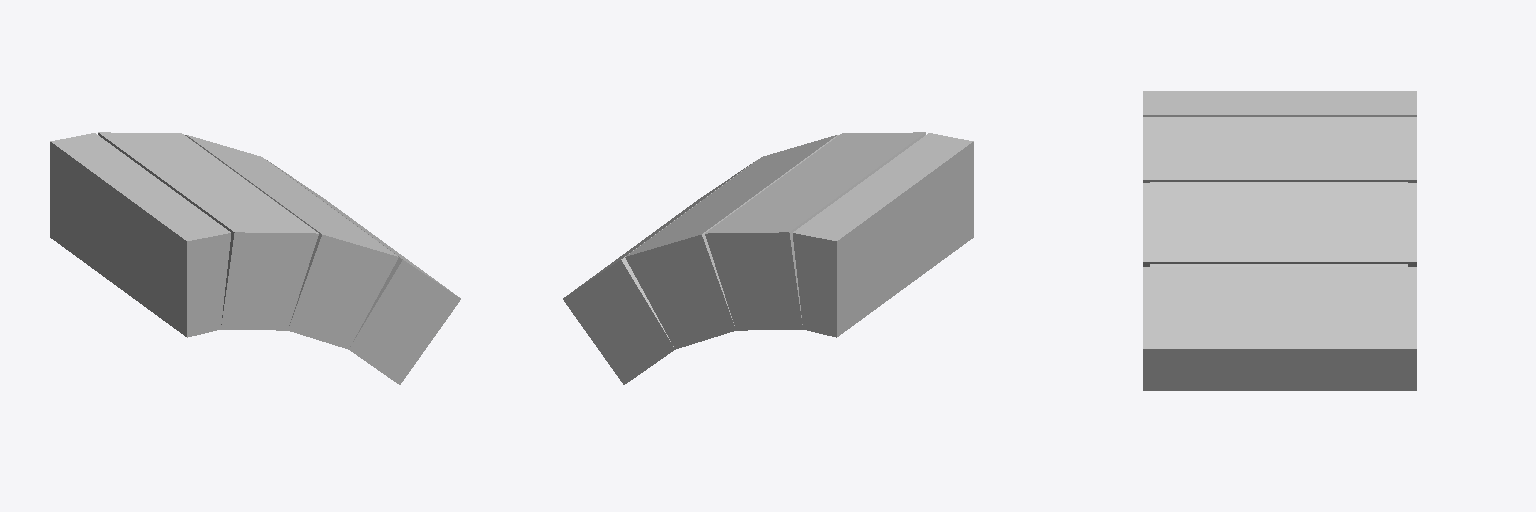
Rendered from generic_segmental_arch_2.obj.
3 views of the same model, side by side, from view 1: azimuth 30°, elevation 25°; view 2: azimuth 150°, elevation 25°; view 3: azimuth 270°, elevation 25° (orthographic).
Visible parts, largest first — view 1: cube.045, cube.046, cube.043, cube.044; view 2: cube.045, cube.046, cube.043, cube.044; view 3: cube.044, cube.043, cube.046, cube.045, cube.047.
Boxes of the visible parts, x1,y1,x2,y2 form: cube.045: [50, 133, 230, 337]; cube.046: [98, 132, 318, 330]; cube.043: [185, 135, 398, 349]; cube.044: [267, 160, 460, 384]; cube.045: [793, 133, 973, 337]; cube.046: [705, 132, 925, 330]; cube.043: [625, 135, 838, 349]; cube.044: [563, 160, 756, 384]; cube.044: [1143, 267, 1416, 390]; cube.043: [1143, 183, 1416, 266]; cube.046: [1143, 117, 1416, 182]; cube.045: [1143, 91, 1416, 116]; cube.047: [1150, 264, 1407, 266].
Size of the model in its own units: 1.31 by 0.8905 by 1.13.